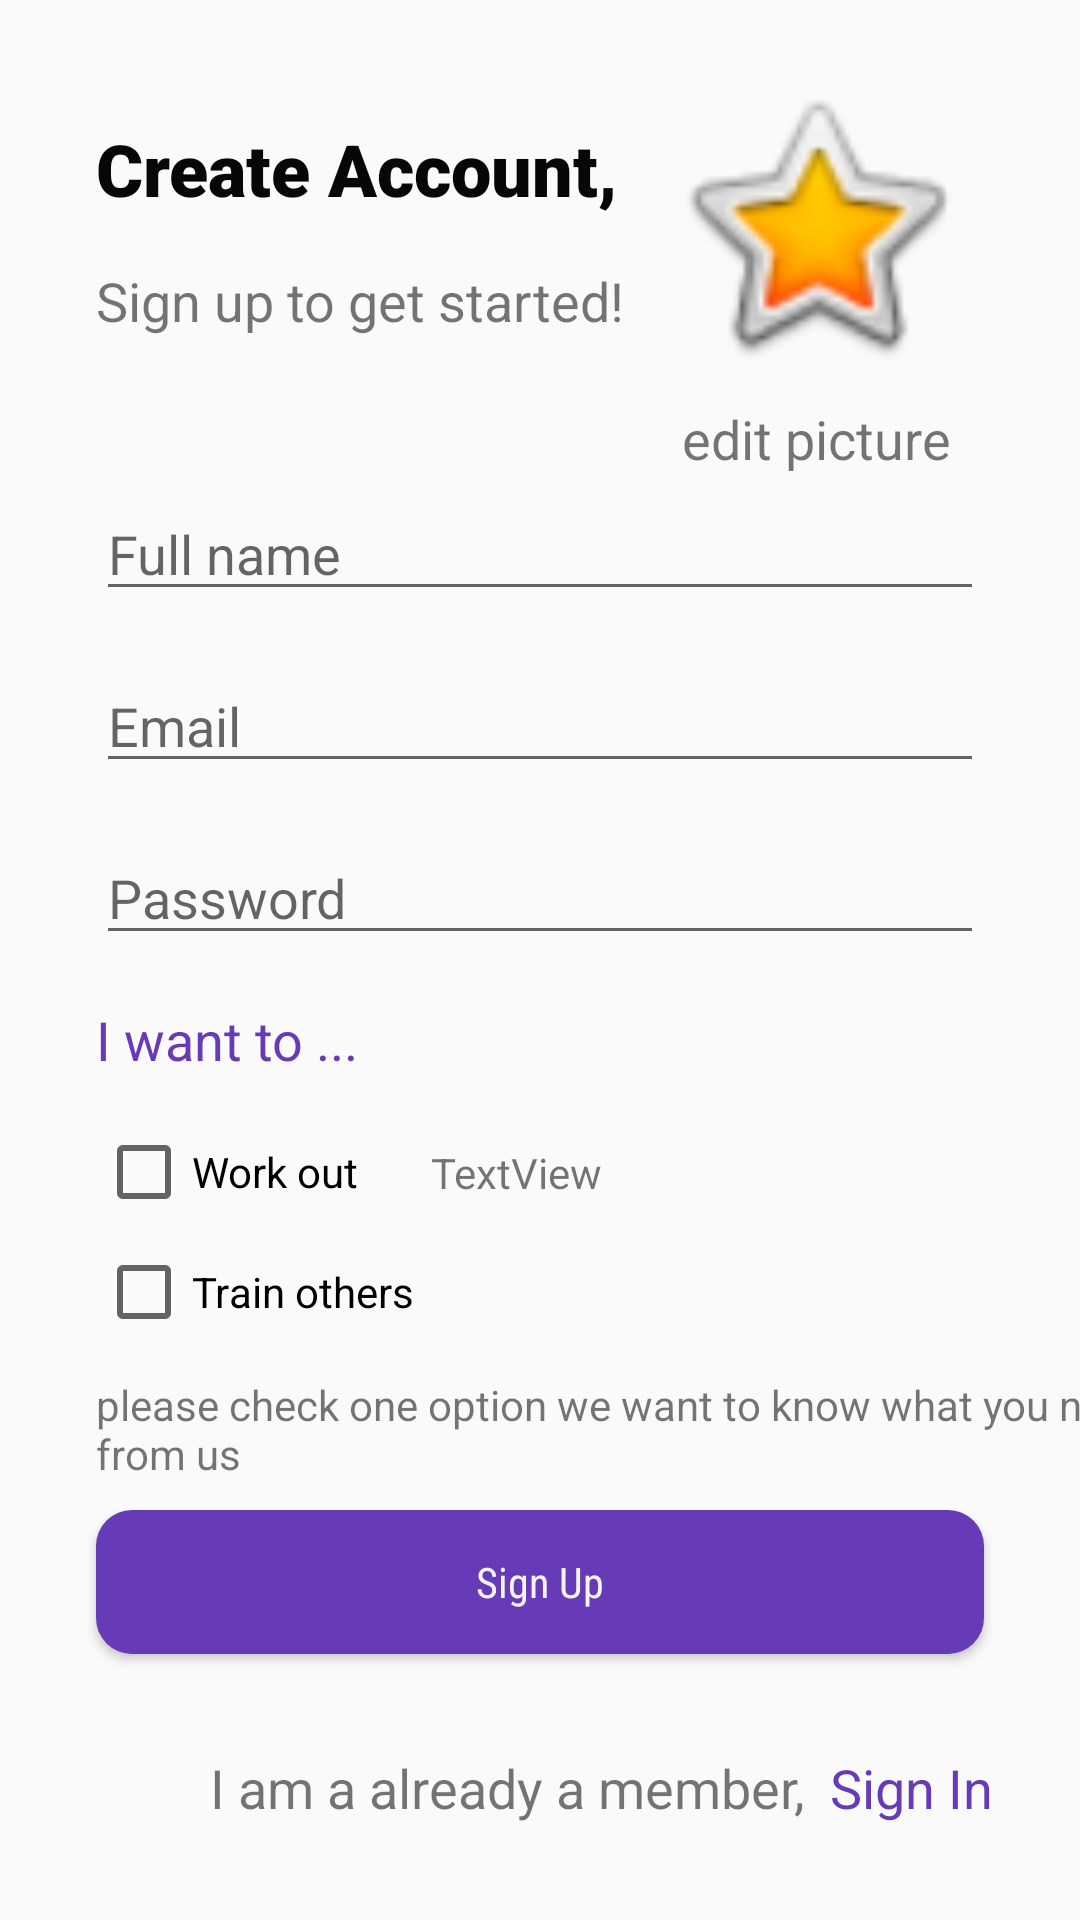

Locate icon controls on the screen. Image size 1080px x 1920px, boxes as bbox=(x1, y1, x2, y2).
star on: bbox=(691, 103, 947, 352)
